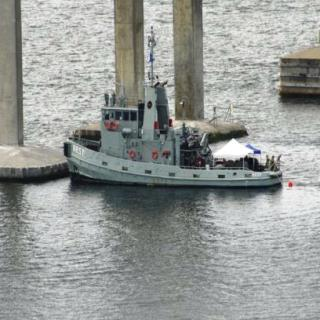Tug Boat: (63, 58, 284, 188)
